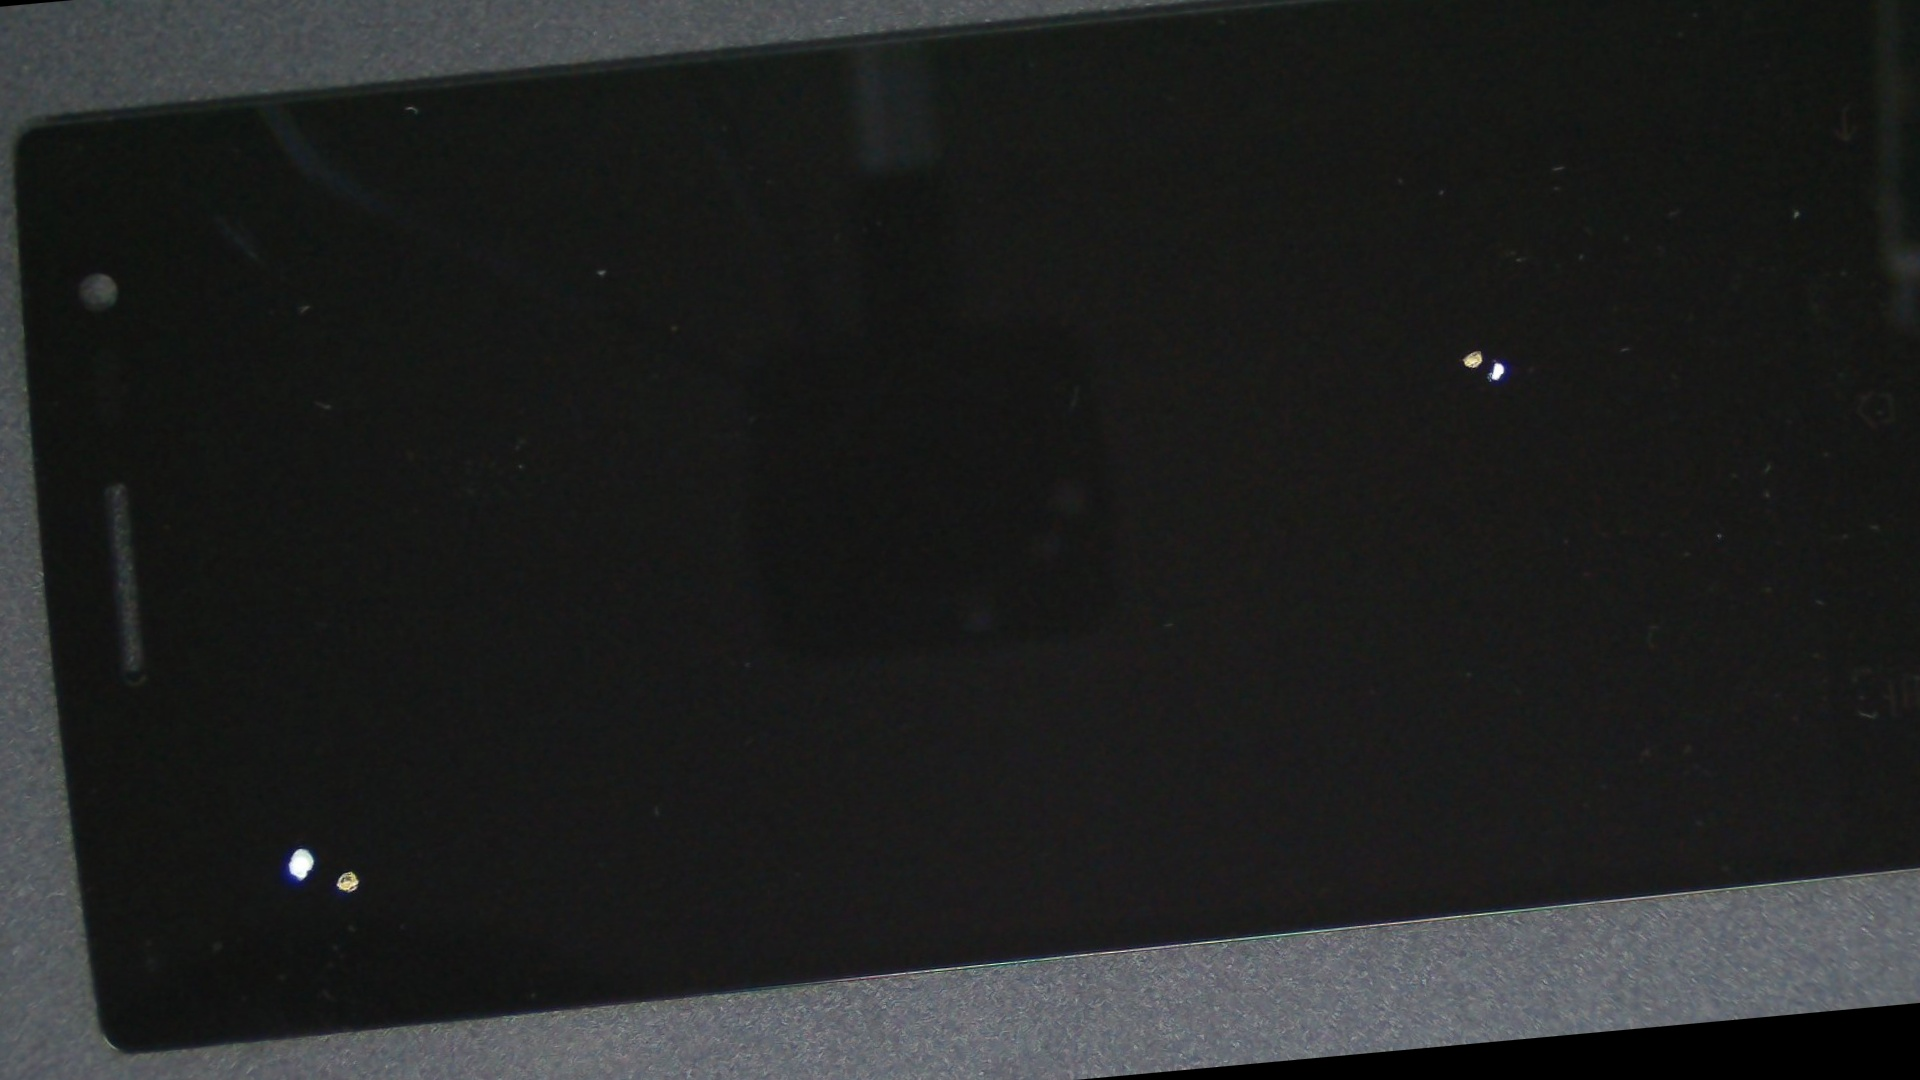oil: (687, 63, 1920, 671), (676, 58, 1920, 658), (113, 407, 566, 1080), (88, 401, 496, 1080)
